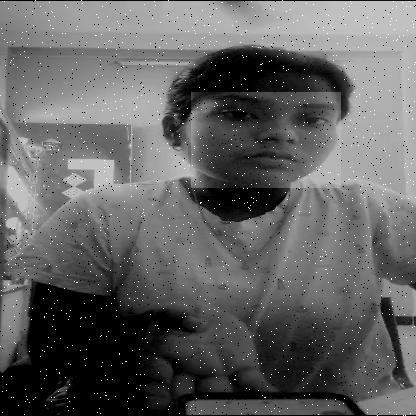Normal: (191, 92, 341, 188)
